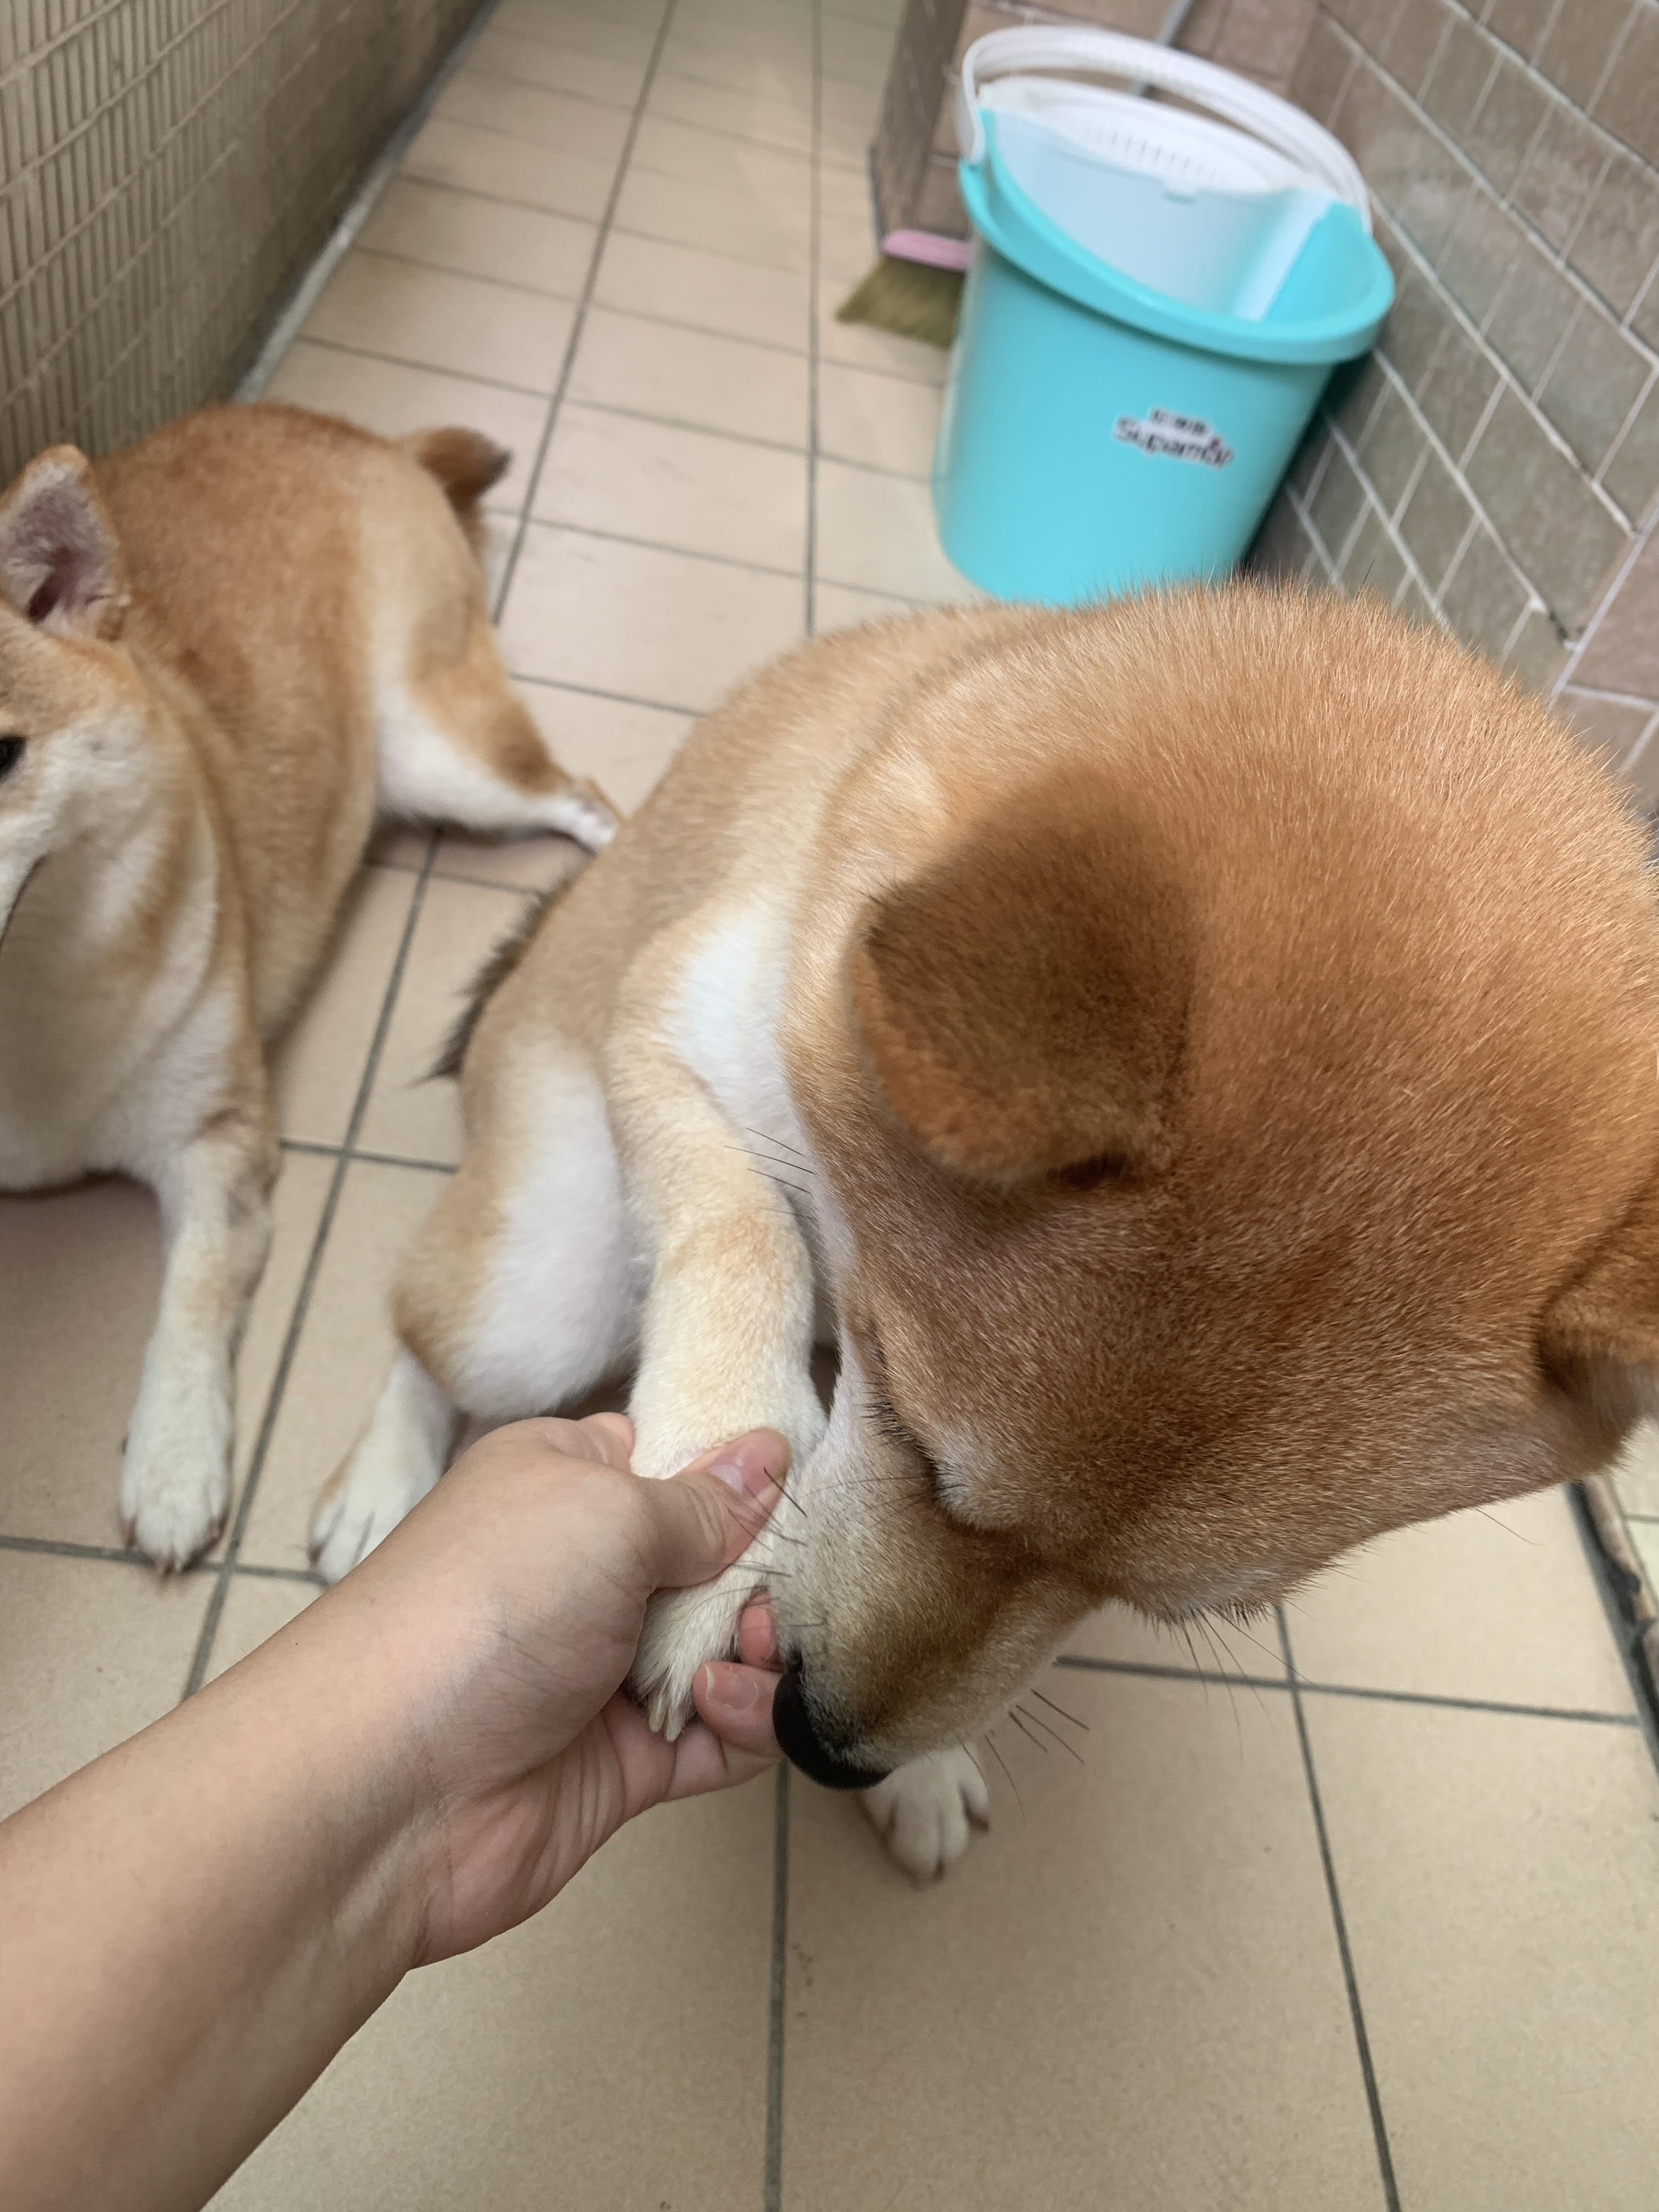Lie down: (3, 369, 525, 1541)
Sit down: (329, 526, 1659, 1958)
